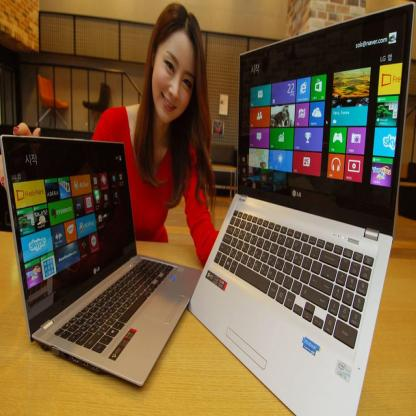board: (186, 2, 416, 416), (0, 138, 202, 389)
